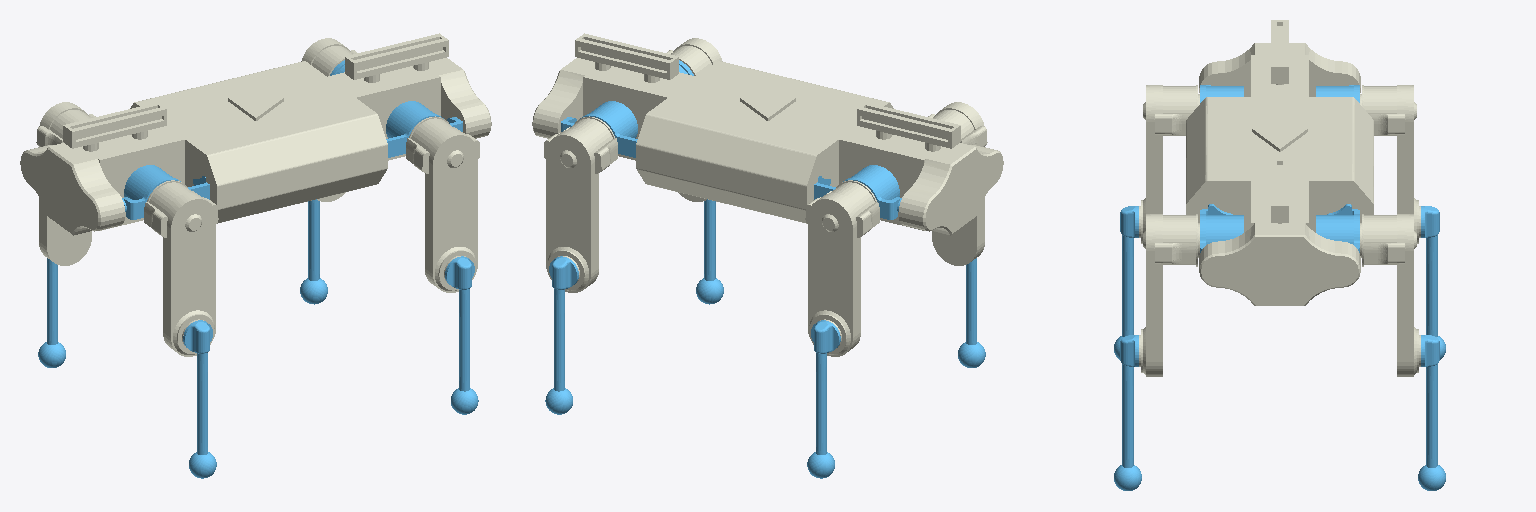
--- Render facts (derived) ---
Views: 3 orthographic renders of the robot side by side, from view 1: azimuth 30°, elevation 25°; view 2: azimuth 150°, elevation 25°; view 3: azimuth 270°, elevation 25°.
Robot: mors_sim — 21 links, 20 joints (12 revolute, 8 fixed); root link base_link; default pose: every joint at zero.
Links seen in each view (by area): view 1: base_link, hip_R1, hip_R2, hip_L2, knee_R2, knee_R1, abad_R2, abad_R1, hip_L1, knee_L1, knee_L2, ef_R2 (+3 smaller); view 2: base_link, hip_L2, hip_L1, hip_R2, knee_L2, knee_L1, abad_L2, abad_L1, hip_R1, knee_R1, knee_R2, ef_L2 (+3 smaller); view 3: base_link, hip_R1, hip_L1, hip_R2, hip_L2, knee_R1, knee_L1, knee_R2, knee_L2, abad_R1, abad_L1, ef_R1 (+1 smaller).
Link boxes in pixels (x1=…): base_link: x1=20, y1=33, x2=491, y2=235; hip_R1: x1=406, y1=116, x2=479, y2=292; hip_R2: x1=144, y1=180, x2=218, y2=356; hip_L2: x1=36, y1=102, x2=95, y2=265; knee_R2: x1=183, y1=320, x2=212, y2=454; knee_R1: x1=445, y1=256, x2=474, y2=391; abad_R2: x1=122, y1=165, x2=209, y2=219; abad_R1: x1=386, y1=101, x2=462, y2=157; hip_L1: x1=301, y1=38, x2=356, y2=201; knee_L1: x1=308, y1=199, x2=319, y2=280; knee_L2: x1=47, y1=258, x2=57, y2=344; ef_R2: x1=189, y1=452, x2=216, y2=478; base_link: x1=532, y1=33, x2=1003, y2=235; hip_L2: x1=805, y1=180, x2=879, y2=356; hip_L1: x1=544, y1=116, x2=617, y2=292; hip_R2: x1=928, y1=102, x2=987, y2=265; knee_L2: x1=811, y1=320, x2=840, y2=454; knee_L1: x1=549, y1=256, x2=578, y2=391; abad_L2: x1=814, y1=165, x2=901, y2=219; abad_L1: x1=561, y1=101, x2=637, y2=157; hip_R1: x1=667, y1=38, x2=722, y2=201; knee_R1: x1=704, y1=199, x2=715, y2=280; knee_R2: x1=966, y1=258, x2=976, y2=344; ef_L2: x1=807, y1=452, x2=834, y2=478; base_link: x1=1186, y1=20, x2=1373, y2=305; hip_R1: x1=1139, y1=214, x2=1199, y2=376; hip_L1: x1=1360, y1=214, x2=1420, y2=376; hip_R2: x1=1139, y1=85, x2=1199, y2=243; hip_L2: x1=1360, y1=85, x2=1420, y2=243; knee_R1: x1=1120, y1=335, x2=1138, y2=467; knee_L1: x1=1421, y1=335, x2=1439, y2=467; knee_R2: x1=1120, y1=206, x2=1138, y2=336; knee_L2: x1=1421, y1=206, x2=1439, y2=336; abad_R1: x1=1200, y1=204, x2=1243, y2=252; abad_L1: x1=1316, y1=204, x2=1359, y2=252; ef_R1: x1=1114, y1=465, x2=1141, y2=490.
Size in the robot's own frame: 0.488 by 0.3537 by 0.3655 metres.
Meshes: 6 distinct files referenced, 17 mesh visuals loaded (5 binary STL); not drawn: 1 (reference not matched to a file when rendering).

robot.urdf — mors_sim:
<?xml version="1.0" ?>
<!-- =================================================================================== -->
<!-- |    This document was autogenerated by xacro from mors.xacro                     | -->
<!-- |    EDITING THIS FILE BY HAND IS NOT RECOMMENDED                                 | -->
<!-- =================================================================================== -->
<robot name="mors_sim">
  <material name="black">
    <color rgba="0.0 0.0 0.0 1.0"/>
  </material>
  <material name="blue">
    <color rgba="0.0 0.0 0.8 1.0"/>
  </material>
  <material name="green">
    <color rgba="0.0 0.8 0.0 1.0"/>
  </material>
  <material name="grey">
    <color rgba="0.2 0.2 0.2 1.0"/>
  </material>
  <material name="silver">
    <color rgba="0.9137254901960784 0.9137254901960784 0.8470588235294118 1.0"/>
  </material>
  <material name="orange">
    <color rgba="1.0 0.4235294117647059 0.0392156862745098 1.0"/>
  </material>
  <material name="brown">
    <color rgba="0.8705882352941177 0.8117647058823529 0.7647058823529411 1.0"/>
  </material>
  <material name="white_gray">
    <color rgba="0.8235294117647058 0.8235294117647058 0.8235294117647058 1.0"/>
  </material>
  <material name="gold">
    <color rgba="0.8117647058823529 0.6784313725490196 0.30196078431372547 1.0"/>
  </material>
  <material name="white_blue">
    <color rgba="0.4627450980392157 0.8 0.9921568627450981 1.0"/>
  </material>
  <material name="white_black">
    <color rgba="0.49411764705882355 0.49411764705882355 0.49411764705882355 1.0"/>
  </material>
  <material name="red">
    <color rgba="0.8 0.0 0.0 1.0"/>
  </material>
  <material name="white">
    <color rgba="1.0 1.0 1.0 1.0"/>
  </material>
  <!-- ros_control plugin -->
  <gazebo>
    <plugin filename="libgazebo_ros_control.so" name="gazebo_ros_control">
      <robotNamespace>/quadro_main</robotNamespace>
      <robotSimType>gazebo_ros_control/DefaultRobotHWSim</robotSimType>
    </plugin>
  </gazebo>
  <!-- Show the trajectory of trunk center. -->
  <!-- <gazebo>
                <plugin name="3dplot" filename="libLinkPlot3DPlugin.so">
                        <frequency>10</frequency>
                        <plot>
                                <link>knee_R1</link>
                                <pose>0 -0.176295 0 0 0 0</pose>
                                <material>Gazebo/Yellow</material>
                        </plot>
                </plugin>
        </gazebo> -->
  <!-- Body Link -->
  <gazebo reference="base_link">
    <mu1>0.9</mu1>
    <mu2>0.9</mu2>
    <kp value="1000000.0"/>
    <kd value="1.0"/>
    <material>Gazebo/Grey</material>
  </gazebo>
  <!-- Shoulder R1 -->
  <gazebo reference="abad_R1">
    <kp>1000000.0</kp>
    <kd>1.0</kd>
    <mu1>0.9</mu1>
    <mu2>0.9</mu2>
    <fdir1>1 1 0</fdir1>
    <minDepth>0.001</minDepth>
    <self_collide>true</self_collide>
    <max_vel>0.1</max_vel>
    <material>Gazebo/DarkGrey</material>
  </gazebo>
  <!-- hip R1 -->
  <gazebo reference="hip_R1">
    <kp>1000000.0</kp>
    <kd>1.0</kd>
    <mu1>0.9</mu1>
    <mu2>0.9</mu2>
    <fdir1>1 1 0</fdir1>
    <minDepth>0.001</minDepth>
    <self_collide>true</self_collide>
    <max_vel>0.1</max_vel>
    <material>Gazebo/DarkGrey</material>
  </gazebo>
  <!-- knee R1 -->
  <gazebo reference="knee_R1">
    <kp>1000000.0</kp>
    <kd>1.0</kd>
    <mu1>0.9</mu1>
    <mu2>0.9</mu2>
    <fdir1>1 1 0</fdir1>
    <minDepth>0.001</minDepth>
    <self_collide>true</self_collide>
    <max_vel>0.1</max_vel>
    <material>Gazebo/DarkGrey</material>
  </gazebo>
  <!-- shoulder R2 -->
  <gazebo reference="abad_R2">
    <kp>1000000.0</kp>
    <kd>1.0</kd>
    <mu1>0.9</mu1>
    <mu2>0.9</mu2>
    <fdir1>1 1 0</fdir1>
    <minDepth>0.001</minDepth>
    <self_collide>true</self_collide>
    <max_vel>0.1</max_vel>
    <material>Gazebo/DarkGrey</material>
  </gazebo>
  <!-- hip R2 -->
  <gazebo reference="hip_R2">
    <kp>1000000.0</kp>
    <kd>1.0</kd>
    <mu1>0.9</mu1>
    <mu2>0.9</mu2>
    <fdir1>1 1 0</fdir1>
    <minDepth>0.001</minDepth>
    <self_collide>true</self_collide>
    <max_vel>0.1</max_vel>
    <material>Gazebo/DarkGrey</material>
  </gazebo>
  <!-- knee R2 -->
  <gazebo reference="knee_R2">
    <kp>1000000.0</kp>
    <kd>1.0</kd>
    <mu1>1000.9</mu1>
    <mu2>1000.9</mu2>
    <fdir1>1 1 0</fdir1>
    <minDepth>0.001</minDepth>
    <self_collide>true</self_collide>
    <max_vel>0.1</max_vel>
    <material>Gazebo/DarkGrey</material>
  </gazebo>
  <!-- - - - - - - - - - - - - - - -->
  <!-- shoulder L1 -->
  <gazebo reference="abad_L1">
    <kp>1000000.0</kp>
    <kd>1.0</kd>
    <mu1>0.9</mu1>
    <mu2>0.9</mu2>
    <fdir1>1 1 0</fdir1>
    <minDepth>0.001</minDepth>
    <self_collide>true</self_collide>
    <max_vel>0.1</max_vel>
    <material>Gazebo/DarkGrey</material>
  </gazebo>
  <!-- hip L1 -->
  <gazebo reference="hip_L1">
    <kp>1000000.0</kp>
    <kd>1.0</kd>
    <mu1>0.9</mu1>
    <mu2>0.9</mu2>
    <fdir1>1 1 0</fdir1>
    <minDepth>0.001</minDepth>
    <self_collide>true</self_collide>
    <max_vel>0.1</max_vel>
    <material>Gazebo/DarkGrey</material>
  </gazebo>
  <!-- knee L1 -->
  <gazebo reference="knee_L1">
    <kp>1000000.0</kp>
    <kd>1.0</kd>
    <mu1>1000.9</mu1>
    <mu2>1000.9</mu2>
    <fdir1>1 1 0</fdir1>
    <minDepth>0.001</minDepth>
    <self_collide>true</self_collide>
    <max_vel>0.1</max_vel>
    <material>Gazebo/DarkGrey</material>
  </gazebo>
  <!-- shoulder L2 -->
  <gazebo reference="abad_L2">
    <kp>1000000.0</kp>
    <kd>1.0</kd>
    <mu1>0.9</mu1>
    <mu2>0.9</mu2>
    <fdir1>1 1 0</fdir1>
    <minDepth>0.001</minDepth>
    <self_collide>true</self_collide>
    <max_vel>0.1</max_vel>
    <material>Gazebo/DarkGrey</material>
  </gazebo>
  <!-- hip L2 -->
  <gazebo reference="hip_L2">
    <kp>1000000.0</kp>
    <kd>1.0</kd>
    <mu1>0.9</mu1>
    <mu2>0.9</mu2>
    <fdir1>1 1 0</fdir1>
    <minDepth>0.001</minDepth>
    <self_collide>true</self_collide>
    <max_vel>0.1</max_vel>
    <material>Gazebo/DarkGrey</material>
  </gazebo>
  <!-- knee L2 -->
  <gazebo reference="knee_L2">
    <kp>1000000.0</kp>
    <kd>1.0</kd>
    <mu1>0.9</mu1>
    <mu2>0.9</mu2>
    <fdir1>1 1 0</fdir1>
    <minDepth>0.001</minDepth>
    <self_collide>true</self_collide>
    <max_vel>0.1</max_vel>
    <material>Gazebo/DarkGrey</material>
  </gazebo>
  <!-- <gazebo reference="ef_R1">
        <material>Gazebo/DarkGrey</material>
	</gazebo>

        <gazebo reference="ef_R2">
                <material>Gazebo/DarkGrey</material>
	</gazebo>

        <gazebo reference="ef_L1">
                <material>Gazebo/DarkGrey</material>
	</gazebo>

        <gazebo reference="ef_L2">
                <material>Gazebo/DarkGrey</material>
	</gazebo> -->
  <!-- body -->
  <link name="base_link">
    <visual>
      <geometry>
        <mesh filename="package://mors_sim/urdf/meshes/body.stl" scale="1 1 1"/>
      </geometry>
      <origin rpy="0 0 0" xyz="0 0 0"/>
      <material name="silver"/>
    </visual>
    <collision>
      <origin rpy="0 0 0" xyz="0 0 0"/>
      <geometry>
        <mesh filename="package://mors_sim/urdf/meshes/body.stl" scale="1 1 1"/>
      </geometry>
    </collision>
  </link>
  <link name="base_inertia">
    <inertial>
      <origin rpy="0 0 0" xyz="-0.00272 0.000875 0.000178"/>
      <mass value="3.659"/>
      <inertia ixx="0.012838176" ixy="-6.851e-06" ixz="0.000156493" iyy="0.056852389" iyz="-9.5392e-05" izz="0.064034355"/>
    </inertial>
  </link>
  <joint name="base_link_to_base_inertia" type="fixed">
    <parent link="base_link"/>
    <child link="base_inertia"/>
    <origin rpy="0 0 0" xyz="0 0 0"/>
  </joint>
  <!-- abad -->
  <joint name="abad_joint_R1" type="revolute">
    <parent link="base_link"/>
    <child link="abad_R1"/>
    <origin rpy="-1.5707963267948966 0.0 -1.5707963267948966" xyz="0.1035 -0.066 0.0"/>
    <axis xyz="0 0 1"/>
    <dynamics damping="0.8" friction="0"/>
    <limit effort="2000" lower="2.6179938779914944" upper="-2.6179938779914944" velocity="10.6"/>
  </joint>
  <link name="abad_R1">
    <visual>
      <origin rpy="0 0 0" xyz="0 0 0"/>
      <geometry>
        <mesh filename="package://mors_sim/urdf/meshes/joint1.stl" scale="1 1 1"/>
      </geometry>
      <material name="white_blue"/>
    </visual>
    <collision>
      <origin rpy="0 0 0" xyz="0 0 0"/>
      <geometry>
        <mesh filename="package://mors_sim/urdf/meshes/joint1.stl" scale="1 1 1"/>
      </geometry>
    </collision>
    <inertial>
      <origin rpy="0 0 1.57" xyz="-0.00606 -1.8e-05 0.058144"/>
      <mass value="0.309"/>
      <inertia ixx="0.000178705" ixy="-1.02e-07" ixz="-3.483e-06" iyy="0.000161337" iyz="-5e-09" izz="0.0001003"/>
    </inertial>
  </link>
  <!-- Hip-->
  <joint name="hip_joint_R1" type="revolute">
    <parent link="abad_R1"/>
    <child link="hip_R1"/>
    <origin rpy="1.5707963267948966 0.0 1.5707963267948966" xyz="0.0105 0.0 0.059"/>
    <axis xyz="0 0 1"/>
    <dynamics damping="0.8" friction="0"/>
    <limit effort="2000" lower="2.6179938779914944" upper="-2.6179938779914944" velocity="10.6"/>
  </joint>
  <link name="hip_R1">
    <visual>
      <origin rpy="0 0 0" xyz="0 0 0"/>
      <geometry>
        <mesh filename="package://mors_sim/urdf/meshes/joint2.stl" scale="1 1 1"/>
      </geometry>
      <material name="silver"/>
    </visual>
    <collision>
      <geometry>
        <mesh filename="package://mors_sim/urdf/meshes/joint2.stl" scale="1 1 1"/>
      </geometry>
    </collision>
    <inertial>
      <origin rpy="0 0 0" xyz="0.034385 -0.000226 0.04482"/>
      <mass value="0.532"/>
      <inertia ixx="0.000279734" ixy="2.8e-07" ixz="-0.00025377" iyy="0.001715204" iyz="-1.2e-06" izz="0.001731949"/>
    </inertial>
  </link>
  <!-- Knee -->
  <joint name="knee_joint_R1" type="revolute">
    <parent link="hip_R1"/>
    <child link="knee_R1"/>
    <origin rpy="3.141592653589793 3.141592653589793 3.141592653589793" xyz="0.13 0.0 0.07335"/>
    <axis xyz="0 0 1"/>
    <dynamics damping="0.8" friction="0"/>
    <limit effort="2000" lower="2.6179938779914944" upper="-2.6179938779914944" velocity="10.6"/>
  </joint>
  <link name="knee_R1">
    <visual>
      <origin rpy="0 0 0" xyz="0 0 0"/>
      <geometry>
        <mesh filename="package://mors_sim/urdf/meshes/joint3_1.stl" scale="1 1 1"/>
      </geometry>
      <material name="white_blue"/>
    </visual>
    <collision>
      <geometry>
        <mesh filename="package://mors_sim/urdf/meshes/joint3_1.stl" scale="1 1 1"/>
      </geometry>
    </collision>
    <inertial>
      <origin rpy="0 0 0" xyz="0.058408 0.0 0.009288"/>
      <mass value="0.049"/>
      <inertia ixx="3.796e-06" ixy="0.0" ixz="-7.744e-06" iyy="0.000208824" iyz="0.0" izz="0.00020873"/>
    </inertial>
  </link>
  <link name="ef_R1">
    <visual>
      <origin rpy="0 0 0" xyz="0 0 0"/>
      <geometry>
        <mesh filename="package://mors_sim/urdf/meshes/joint3_2.stl" scale="1 1 1"/>
      </geometry>
      <material name="white_blue"/>
    </visual>
    <collision>
      <geometry>
        <mesh filename="package://mors_sim/urdf/meshes/joint3_2.stl" scale="1 1 1"/>
      </geometry>
    </collision>
    <!-- <inertial>
        <origin rpy="0 0 -0.896" xyz="0 0 0"/>
        <mass value="0.04"/>
        <inertia ixx="0.00000105" ixy="0" ixz="0"
          iyy="0.00000105" iyz="0"
          izz="0.000001149" />
      </inertial> -->
  </link>
  <!-- End Effector-->
  <joint name="ef_joint_R1" type="fixed">
    <parent link="knee_R1"/>
    <child link="ef_R1"/>
    <origin rpy="0 0 0" xyz="0.1485 0.0 0.012"/>
  </joint>
  <!-- Define actuators -->
  <transmission name="abad_transmission_R1">
    <type>transmission_interface/SimpleTransmission</type>
    <joint name="abad_joint_R1">
      <hardwareInterface>hardware_interface/EffortJointInterface</hardwareInterface>
    </joint>
    <actuator name="soulder_motor_R1">
      <hardwareInterface>hardware_interface/EffortJointInterface</hardwareInterface>
      <mechanicalReduction>1.0</mechanicalReduction>
      <motorTorqueConstant>1.0</motorTorqueConstant>
    </actuator>
  </transmission>
  <transmission name="hip_transmission_R1">
    <type>transmission_interface/SimpleTransmission</type>
    <joint name="hip_joint_R1">
      <hardwareInterface>hardware_interface/EffortJointInterface</hardwareInterface>
    </joint>
    <actuator name="hip_motor_R1">
      <hardwareInterface>hardware_interface/EffortJointInterface</hardwareInterface>
      <mechanicalReduction>1.0</mechanicalReduction>
      <motorTorqueConstant>1.0</motorTorqueConstant>
    </actuator>
  </transmission>
  <transmission name="knee_transmission_R1">
    <type>transmission_interface/SimpleTransmission</type>
    <joint name="knee_joint_R1">
      <hardwareInterface>hardware_interface/EffortJointInterface</hardwareInterface>
    </joint>
    <actuator name="knee_motor_R1">
      <hardwareInterface>hardware_interface/EffortJointInterface</hardwareInterface>
      <mechanicalReduction>1.0</mechanicalReduction>
      <motorTorqueConstant>1.0</motorTorqueConstant>
    </actuator>
  </transmission>
  <!-- abad -->
  <joint name="abad_joint_R2" type="revolute">
    <parent link="base_link"/>
    <child link="abad_R2"/>
    <origin rpy="1.5707963267948966 0.0 -1.5707963267948966" xyz="-0.1035 -0.066 0.0"/>
    <axis xyz="0 0 1"/>
    <dynamics damping="0.8" friction="0"/>
    <limit effort="2000" lower="2.6179938779914944" upper="-2.6179938779914944" velocity="10.6"/>
  </joint>
  <link name="abad_R2">
    <visual>
      <origin rpy="0 0 0" xyz="0 0 0"/>
      <geometry>
        <mesh filename="package://mors_sim/urdf/meshes/joint1.stl" scale="1 1 1"/>
      </geometry>
      <material name="white_blue"/>
    </visual>
    <collision>
      <origin rpy="0 0 0" xyz="0 0 0"/>
      <geometry>
        <mesh filename="package://mors_sim/urdf/meshes/joint1.stl" scale="1 1 1"/>
      </geometry>
    </collision>
    <inertial>
      <origin rpy="0 0 1.57" xyz="-0.00606 -1.8e-05 0.058144"/>
      <mass value="0.309"/>
      <inertia ixx="0.000178705" ixy="-1.02e-07" ixz="-3.483e-06" iyy="0.000161337" iyz="-5e-09" izz="0.0001003"/>
    </inertial>
  </link>
  <!-- Hip-->
  <joint name="hip_joint_R2" type="revolute">
    <parent link="abad_R2"/>
    <child link="hip_R2"/>
    <origin rpy="-1.5707963267948966 0.0 -1.5707963267948966" xyz="0.0105 0.0 0.059"/>
    <axis xyz="0 0 1"/>
    <dynamics damping="0.8" friction="0"/>
    <limit effort="2000" lower="2.6179938779914944" upper="-2.6179938779914944" velocity="10.6"/>
  </joint>
  <link name="hip_R2">
    <visual>
      <origin rpy="0 0 0" xyz="0 0 0"/>
      <geometry>
        <mesh filename="package://mors_sim/urdf/meshes/joint2.stl" scale="1 1 1"/>
      </geometry>
      <material name="silver"/>
    </visual>
    <collision>
      <geometry>
        <mesh filename="package://mors_sim/urdf/meshes/joint2.stl" scale="1 1 1"/>
      </geometry>
    </collision>
    <inertial>
      <origin rpy="0 0 0" xyz="0.034385 -0.000226 0.04482"/>
      <mass value="0.532"/>
      <inertia ixx="0.000279734" ixy="2.8e-07" ixz="-0.00025377" iyy="0.001715204" iyz="-1.2e-06" izz="0.001731949"/>
    </inertial>
  </link>
  <!-- Knee -->
  <joint name="knee_joint_R2" type="revolute">
    <parent link="hip_R2"/>
    <child link="knee_R2"/>
    <origin rpy="3.141592653589793 3.141592653589793 3.141592653589793" xyz="0.13 0.0 0.07335"/>
    <axis xyz="0 0 1"/>
    <dynamics damping="0.8" friction="0"/>
    <limit effort="2000" lower="2.6179938779914944" upper="-2.6179938779914944" velocity="10.6"/>
  </joint>
  <link name="knee_R2">
    <visual>
      <origin rpy="0 0 0" xyz="0 0 0"/>
      <geometry>
        <mesh filename="package://mors_sim/urdf/meshes/joint3_1.stl" scale="1 1 1"/>
      </geometry>
      <material name="white_blue"/>
    </visual>
    <collision>
      <geometry>
        <mesh filename="package://mors_sim/urdf/meshes/joint3_1.stl" scale="1 1 1"/>
      </geometry>
    </collision>
    <inertial>
      <origin rpy="0 0 0" xyz="0.058408 0.0 0.009288"/>
      <mass value="0.049"/>
      <inertia ixx="3.796e-06" ixy="0.0" ixz="-7.744e-06" iyy="0.000208824" iyz="0.0" izz="0.00020873"/>
    </inertial>
  </link>
  <link name="ef_R2">
    <visual>
      <origin rpy="0 0 0" xyz="0 0 0"/>
      <geometry>
        <mesh filename="package://mors_sim/urdf/meshes/joint3_2.stl" scale="1 1 1"/>
      </geometry>
      <material name="white_blue"/>
    </visual>
    <collision>
      <geometry>
        <mesh filename="package://mors_sim/urdf/meshes/joint3_2.stl" scale="1 1 1"/>
      </geometry>
    </collision>
    <!-- <inertial>
        <origin rpy="0 0 -0.896" xyz="0 0 0"/>
        <mass value="0.04"/>
        <inertia ixx="0.00000105" ixy="0" ixz="0"
          iyy="0.00000105" iyz="0"
          izz="0.000001149" />
      </inertial> -->
  </link>
  <!-- End Effector-->
  <joint name="ef_joint_R2" type="fixed">
    <parent link="knee_R2"/>
    <child link="ef_R2"/>
    <origin rpy="0 0 0" xyz="0.1485 0.0 0.012"/>
  </joint>
  <!-- Define actuators -->
  <transmission name="abad_transmission_R2">
    <type>transmission_interface/SimpleTransmission</type>
    <joint name="abad_joint_R2">
      <hardwareInterface>hardware_interface/EffortJointInterface</hardwareInterface>
    </joint>
    <actuator name="soulder_motor_R2">
      <hardwareInterface>hardware_interface/EffortJointInterface</hardwareInterface>
      <mechanicalReduction>1.0</mechanicalReduction>
      <motorTorqueConstant>1.0</motorTorqueConstant>
    </actuator>
  </transmission>
  <transmission name="hip_transmission_R2">
    <type>transmission_interface/SimpleTransmission</type>
    <joint name="hip_joint_R2">
      <hardwareInterface>hardware_interface/EffortJointInterface</hardwareInterface>
    </joint>
    <actuator name="hip_motor_R2">
      <hardwareInterface>hardware_interface/EffortJointInterface</hardwareInterface>
      <mechanicalReduction>1.0</mechanicalReduction>
      <motorTorqueConstant>1.0</motorTorqueConstant>
    </actuator>
  </transmission>
  <transmission name="knee_transmission_R2">
    <type>transmission_interface/SimpleTransmission</type>
    <joint name="knee_joint_R2">
      <hardwareInterface>hardware_interface/EffortJointInterface</hardwareInterface>
    </joint>
    <actuator name="knee_motor_R2">
      <hardwareInterface>hardware_interface/EffortJointInterface</hardwareInterface>
      <mechanicalReduction>1.0</mechanicalReduction>
      <motorTorqueConstant>1.0</motorTorqueConstant>
    </actuator>
  </transmission>
  <!-- abad -->
  <joint name="abad_joint_L1" type="revolute">
    <parent link="base_link"/>
    <child link="abad_L1"/>
    <origin rpy="1.5707963267948966 0.0 1.5707963267948966" xyz="0.1035 0.066 0.0"/>
    <axis xyz="0 0 1"/>
    <dynamics damping="0.8" friction="0"/>
    <limit effort="2000" lower="2.6179938779914944" upper="-2.6179938779914944" velocity="10.6"/>
  </joint>
  <link name="abad_L1">
    <visual>
      <origin rpy="0 0 0" xyz="0 0 0"/>
      <geometry>
        <mesh filename="package://mors_sim/urdf/meshes/joint1.stl" scale="1 1 1"/>
      </geometry>
      <material name="white_blue"/>
    </visual>
    <collision>
      <origin rpy="0 0 0" xyz="0 0 0"/>
      <geometry>
        <mesh filename="package://mors_sim/urdf/meshes/joint1.stl" scale="1 1 1"/>
      </geometry>
    </collision>
    <inertial>
      <origin rpy="0 0 1.57" xyz="-0.00606 -1.8e-05 0.058144"/>
      <mass value="0.309"/>
      <inertia ixx="0.000178705" ixy="-1.02e-07" ixz="-3.483e-06" iyy="0.000161337" iyz="-5e-09" izz="0.0001003"/>
    </inertial>
  </link>
  <!-- Hip-->
  <joint name="hip_joint_L1" type="revolute">
    <parent link="abad_L1"/>
    <child link="hip_L1"/>
    <origin rpy="-1.5707963267948966 0.0 -1.5707963267948966" xyz="0.0105 0.0 0.059"/>
    <axis xyz="0 0 1"/>
    <dynamics damping="0.8" friction="0"/>
    <limit effort="2000" lower="2.6179938779914944" upper="-2.6179938779914944" velocity="10.6"/>
  </joint>
  <link name="hip_L1">
    <visual>
      <origin rpy="0 0 0" xyz="0 0 0"/>
      <geometry>
        <mesh filename="package://mors_sim/urdf/meshes/joint2.stl" scale="1 1 1"/>
      </geometry>
      <material name="silver"/>
    </visual>
    <collision>
      <geometry>
        <mesh filename="package://mors_sim/urdf/meshes/joint2.stl" scale="1 1 1"/>
      </geometry>
    </collision>
    <inertial>
      <origin rpy="0 0 0" xyz="0.034385 -0.000226 0.04482"/>
      <mass value="0.532"/>
      <inertia ixx="0.000279734" ixy="2.8e-07" ixz="-0.00025377" iyy="0.001715204" iyz="-1.2e-06" izz="0.001731949"/>
    </inertial>
  </link>
  <!-- Knee -->
  <joint name="knee_joint_L1" type="revolute">
    <parent link="hip_L1"/>
    <child link="knee_L1"/>
    <origin rpy="3.141592653589793 3.141592653589793 3.141592653589793" xyz="0.13 0.0 0.07335"/>
    <axis xyz="0 0 1"/>
    <dynamics damping="0.8" friction="0"/>
    <limit effort="2000" lower="2.6179938779914944" upper="-2.6179938779914944" velocity="10.6"/>
  </joint>
  <link name="knee_L1">
    <visual>
      <origin rpy="0 0 0" xyz="0 0 0"/>
      <geometry>
        <mesh filename="package://mors_sim/urdf/meshes/joint3_1.stl" scale="1 1 1"/>
      </geometry>
      <material name="white_blue"/>
    </visual>
    <collision>
      <geometry>
        <mesh filename="package://mors_sim/urdf/meshes/joint3_1.stl" scale="1 1 1"/>
      </geometry>
    </collision>
    <inertial>
      <origin rpy="0 0 0" xyz="0.058408 0.0 0.009288"/>
      <mass value="0.049"/>
      <inertia ixx="3.796e-06" ixy="0.0" ixz="-7.744e-06" iyy="0.000208824" iyz="0.0" izz="0.00020873"/>
    </inertial>
  </link>
  <link name="ef_L1">
    <visual>
      <origin rpy="0 0 0" xyz="0 0 0"/>
      <geometry>
        <mesh filename="package://mors_sim/urdf/meshes/joint3_2.stl" scale="1 1 1"/>
      </geometry>
      <material name="white_blue"/>
    </visual>
    <collision>
      <geometry>
        <mesh filename="package://mors_sim/urdf/meshes/joint3_2.stl" scale="1 1 1"/>
      </geometry>
    </collision>
    <!-- <inertial>
        <origin rpy="0 0 -0.896" xyz="0 0 0"/>
        <mass value="0.04"/>
        <inertia ixx="0.00000105" ixy="0" ixz="0"
          iyy="0.00000105" iyz="0"
          izz="0.000001149" />
      </inertial> -->
  </link>
  <!-- End Effector-->
  <joint name="ef_joint_L1" type="fixed">
    <parent link="knee_L1"/>
    <child link="ef_L1"/>
    <origin rpy="0 0 0" xyz="0.1485 0.0 0.012"/>
  </joint>
  <!-- Define actuators -->
  <transmission name="abad_transmission_L1">
    <type>transmission_interface/SimpleTransmission</type>
    <joint name="abad_joint_L1">
      <hardwareInterface>hardware_interface/EffortJointInterface</hardwareInterface>
    </joint>
    <actuator name="soulder_motor_L1">
      <hardwareInterface>hardware_interface/EffortJointInterface</hardwareInterface>
      <mechanicalReduction>1.0</mechanicalReduction>
      <motorTorqueConstant>1.0</motorTorqueConstant>
    </actuator>
  </transmission>
  <transmission name="hip_transmission_L1">
    <type>transmission_interface/SimpleTransmission</type>
    <joint name="hip_joint_L1">
      <hardwareInterface>hardware_interface/EffortJointInterface</hardwareInterface>
    </joint>
    <actuator name="hip_motor_L1">
      <hardwareInterface>hardware_interface/EffortJointInterface</hardwareInterface>
      <mechanicalReduction>1.0</mechanicalReduction>
      <motorTorqueConstant>1.0</motorTorqueConstant>
    </actuator>
  </transmission>
  <transmission name="knee_transmission_L1">
    <type>transmission_interface/SimpleTransmission</type>
    <joint name="knee_joint_L1">
      <hardwareInterface>hardware_interface/EffortJointInterface</hardwareInterface>
    </joint>
    <actuator name="knee_motor_L1">
      <hardwareInterface>hardware_interface/EffortJointInterface</hardwareInterface>
      <mechanicalReduction>1.0</mechanicalReduction>
      <motorTorqueConstant>1.0</motorTorqueConstant>
    </actuator>
  </transmission>
  <!-- abad -->
  <joint name="abad_joint_L2" type="revolute">
    <parent link="base_link"/>
    <child link="abad_L2"/>
    <origin rpy="-1.5707963267948966 0.0 1.5707963267948966" xyz="-0.1035 0.066 0.0"/>
    <axis xyz="0 0 1"/>
    <dynamics damping="0.8" friction="0"/>
    <limit effort="2000" lower="2.6179938779914944" upper="-2.6179938779914944" velocity="10.6"/>
  </joint>
  <link name="abad_L2">
    <visual>
      <origin rpy="0 0 0" xyz="0 0 0"/>
      <geometry>
        <mesh filename="package://mors_sim/urdf/meshes/joint1.stl" scale="1 1 1"/>
      </geometry>
      <material name="white_blue"/>
    </visual>
    <collision>
      <origin rpy="0 0 0" xyz="0 0 0"/>
      <geometry>
        <mesh filename="package://mors_sim/urdf/meshes/joint1.stl" scale="1 1 1"/>
      </geometry>
    </collision>
    <inertial>
      <origin rpy="0 0 1.57" xyz="-0.00606 -1.8e-05 0.058144"/>
      <mass value="0.309"/>
      <inertia ixx="0.000178705" ixy="-1.02e-07" ixz="-3.483e-06" iyy="0.000161337" iyz="-5e-09" izz="0.0001003"/>
    </inertial>
  </link>
  <!-- Hip-->
  <joint name="hip_joint_L2" type="revolute">
    <parent link="abad_L2"/>
    <child link="hip_L2"/>
    <origin rpy="1.5707963267948966 0.0 1.5707963267948966" xyz="0.0105 0.0 0.059"/>
    <axis xyz="0 0 1"/>
    <dynamics damping="0.8" friction="0"/>
    <limit effort="2000" lower="2.6179938779914944" upper="-2.6179938779914944" velocity="10.6"/>
  </joint>
  <link name="hip_L2">
    <visual>
      <origin rpy="0 0 0" xyz="0 0 0"/>
      <geometry>
        <mesh filename="package://mors_sim/urdf/meshes/joint2.stl" scale="1 1 1"/>
      </geometry>
      <material name="silver"/>
    </visual>
    <collision>
      <geometry>
        <mesh filename="package://mors_sim/urdf/meshes/joint2.stl" scale="1 1 1"/>
      </geometry>
    </collision>
    <inertial>
      <origin rpy="0 0 0" xyz="0.034385 -0.000226 0.04482"/>
      <mass value="0.532"/>
      <inertia ixx="0.000279734" ixy="2.8e-07" ixz="-0.00025377" iyy="0.001715204" iyz="-1.2e-06" izz="0.001731949"/>
    </inertial>
  </link>
  <!-- Knee -->
  <joint name="knee_joint_L2" type="revolute">
    <parent link="hip_L2"/>
    <child link="knee_L2"/>
    <origin rpy="3.141592653589793 3.141592653589793 3.141592653589793" xyz="0.13 0.0 0.07335"/>
    <axis xyz="0 0 1"/>
    <dynamics damping="0.8" friction="0"/>
    <limit effort="2000" lower="2.6179938779914944" upper="-2.6179938779914944" velocity="10.6"/>
  </joint>
  <link name="knee_L2">
    <visual>
      <origin rpy="0 0 0" xyz="0 0 0"/>
      <geometry>
        <mesh filename="package://mors_sim/urdf/meshes/joint3_1.stl" scale="1 1 1"/>
      </geometry>
      <material name="white_blue"/>
    </visual>
    <collision>
      <geometry>
        <mesh filename="package://mors_sim/urdf/meshes/joint3_1.stl" scale="1 1 1"/>
      </geometry>
    </collision>
    <inertial>
      <origin rpy="0 0 0" xyz="0.058408 0.0 0.009288"/>
      <mass value="0.049"/>
      <inertia ixx="3.796e-06" ixy="0.0" ixz="-7.744e-06" iyy="0.000208824" iyz="0.0" izz="0.00020873"/>
    </inertial>
  </link>
  <link name="ef_L2">
    <visual>
      <origin rpy="0 0 0" xyz="0 0 0"/>
      <geometry>
        <mesh filename="package://mors_sim/urdf/meshes/joint3_2.stl" scale="1 1 1"/>
      </geometry>
      <material name="white_blue"/>
    </visual>
    <collision>
      <geometry>
        <mesh filename="package://mors_sim/urdf/meshes/joint3_2.stl" scale="1 1 1"/>
      </geometry>
    </collision>
    <!-- <inertial>
        <origin rpy="0 0 -0.896" xyz="0 0 0"/>
        <mass value="0.04"/>
        <inertia ixx="0.00000105" ixy="0" ixz="0"
          iyy="0.00000105" iyz="0"
          izz="0.000001149" />
      </inertial> -->
  </link>
  <!-- End Effector-->
  <joint name="ef_joint_L2" type="fixed">
    <parent link="knee_L2"/>
    <child link="ef_L2"/>
    <origin rpy="0 0 0" xyz="0.1485 0.0 0.012"/>
  </joint>
  <!-- Define actuators -->
  <transmission name="abad_transmission_L2">
    <type>transmission_interface/SimpleTransmission</type>
    <joint name="abad_joint_L2">
      <hardwareInterface>hardware_interface/EffortJointInterface</hardwareInterface>
    </joint>
    <actuator name="soulder_motor_L2">
      <hardwareInterface>hardware_interface/EffortJointInterface</hardwareInterface>
      <mechanicalReduction>1.0</mechanicalReduction>
      <motorTorqueConstant>1.0</motorTorqueConstant>
    </actuator>
  </transmission>
  <transmission name="hip_transmission_L2">
    <type>transmission_interface/SimpleTransmission</type>
    <joint name="hip_joint_L2">
      <hardwareInterface>hardware_interface/EffortJointInterface</hardwareInterface>
    </joint>
    <actuator name="hip_motor_L2">
      <hardwareInterface>hardware_interface/EffortJointInterface</hardwareInterface>
      <mechanicalReduction>1.0</mechanicalReduction>
      <motorTorqueConstant>1.0</motorTorqueConstant>
    </actuator>
  </transmission>
  <transmission name="knee_transmission_L2">
    <type>transmission_interface/SimpleTransmission</type>
    <joint name="knee_joint_L2">
      <hardwareInterface>hardware_interface/EffortJointInterface</hardwareInterface>
    </joint>
    <actuator name="knee_motor_L2">
      <hardwareInterface>hardware_interface/EffortJointInterface</hardwareInterface>
      <mechanicalReduction>1.0</mechanicalReduction>
      <motorTorqueConstant>1.0</motorTorqueConstant>
    </actuator>
  </transmission>
  <joint name="camera_joint" type="fixed">
    <origin rpy="0 0 0" xyz="0.238 0.0 0.0"/>
    <parent link="base_link"/>
    <child link="camera_frame"/>
  </joint>
  <link name="camera_frame">
    <inertial>
      <origin rpy="0 0 0" xyz="0 0 0"/>
      <mass value="0.1"/>
      <inertia ixx="0.001" ixy="0" ixz="0" iyy="0.001" iyz="0" izz="0.001"/>
    </inertial>
  </link>
  <material name="scan_plastic">
    <color rgba="0.2 0.2 0.2 1"/>
  </material>
  <joint name="scan_joint" type="fixed">
    <!-- <origin rpy="0 0 0" xyz="0.0 0.0 0.25"/> -->
    <origin rpy="0 0 0" xyz="0.15 0.0 0.115"/>
    <parent link="base_link"/>
    <child link="scan_frame"/>
  </joint>
  <link name="scan_frame">
    <inertial>
      <mass value="0.270"/>
      <origin rpy="0 0 0" xyz="0 0 0"/>
      <inertia ixx="2.632e-4" ixy="0" ixz="0" iyy="2.632e-4" iyz="0" izz="1.62e-4"/>
    </inertial>
    <visual>
      <origin rpy="0 0 0" xyz="0 0 0"/>
      <geometry>
        <mesh filename="package://mors_sim/urdf/meshes/rplidar_a1.stl"/>
      </geometry>
      <material name="scan_plastic"/>
    </visual>
    <collision>
      <origin rpy="0 0 0" xyz="0 0 -0.0115"/>
      <geometry>
        <box size="0.058 0.058 0.087"/>
        <!--<mesh filename="package://hector_sensors_description/meshes/${name}_utm30lx/${name}_utm_30lx.stl"/>-->
      </geometry>
    </collision>
  </link>
  <gazebo reference="scan_frame">
    <sensor name="scan" type="ray">
      <always_on>true</always_on>
      <update_rate>30</update_rate>
      <pose>0 0 0 0 0 0</pose>
      <visualize>false</visualize>
      <ray>
        <scan>
          <horizontal>
            <samples>1040</samples>
            <resolution>1</resolution>
            <min_angle>2.26892802759</min_angle>
            <max_angle>-2.26892802759</max_angle>
          </horizontal>
        </scan>
        <range>
          <min>0.2</min>
          <max>30.0</max>
          <resolution>0.01</resolution>
        </range>
        <noise>
          <type>gaussian</type>
          <mean>0.0</mean>
          <stddev>0.004</stddev>
        </noise>
      </ray>
      <plugin filename="libgazebo_ros_laser.so" name="gazebo_ros_hokuyo_controller">
        <topicName>scan</topicName>
        <frameName>hokuyo_frame</frameName>
      </plugin>
    </sensor>
  </gazebo>
  <link name="imu_link">
    <inertial>
      <mass value="0.001"/>
      <origin rpy="0 0 0" xyz="0 0 0"/>
      <inertia ixx="1e-09" ixy="0.0" ixz="0.0" iyy="1e-09" iyz="0.0" izz="1e-09"/>
    </inertial>
  </link>
  <joint name="imu_joint" type="fixed">
    <parent link="base_link"/>
    <child link="imu_link"/>
  </joint>
</robot>
